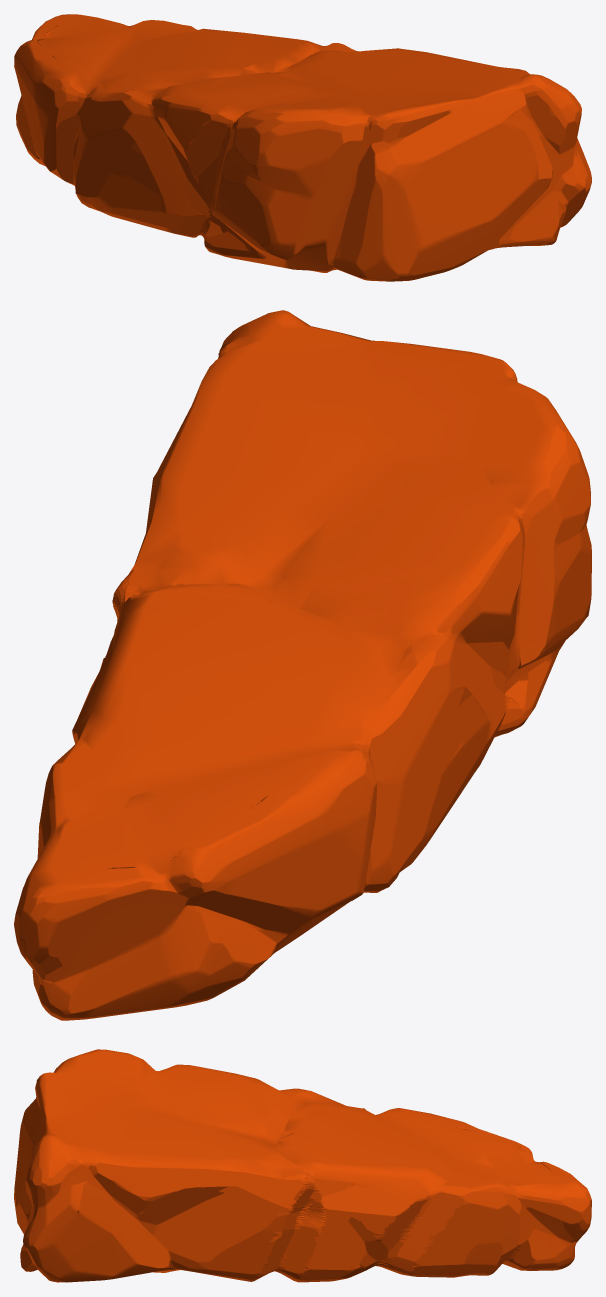
The picture shows the model from 3 angles, top to bottom: view 1: azimuth 30°, elevation 25°; view 2: azimuth 150°, elevation 25°; view 3: azimuth 270°, elevation 25°; orthographic projection. The views are drawn at different scales.
Parts seen in each view (by area): view 1: Mesh_63_LOD0; view 2: Mesh_63_LOD0; view 3: Mesh_63_LOD0.
Boxes of the visible parts, box(x1,y1,x2,y2) form: Mesh_63_LOD0: box(14, 14, 591, 281); Mesh_63_LOD0: box(14, 310, 591, 1020); Mesh_63_LOD0: box(14, 1049, 591, 1282).
Size of what is drawn, in the model's own units: 1659 by 1148 by 3075.
